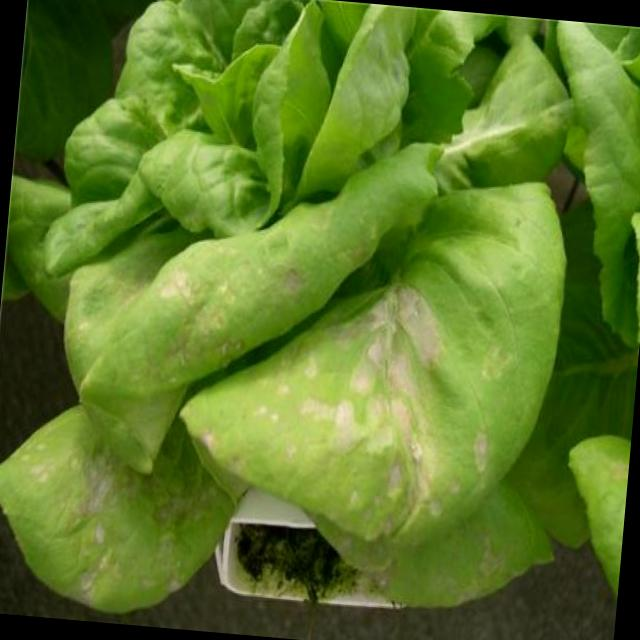Downy_mildew_on_lettuce: (368, 308, 393, 364), (397, 287, 422, 331), (350, 364, 372, 394)
